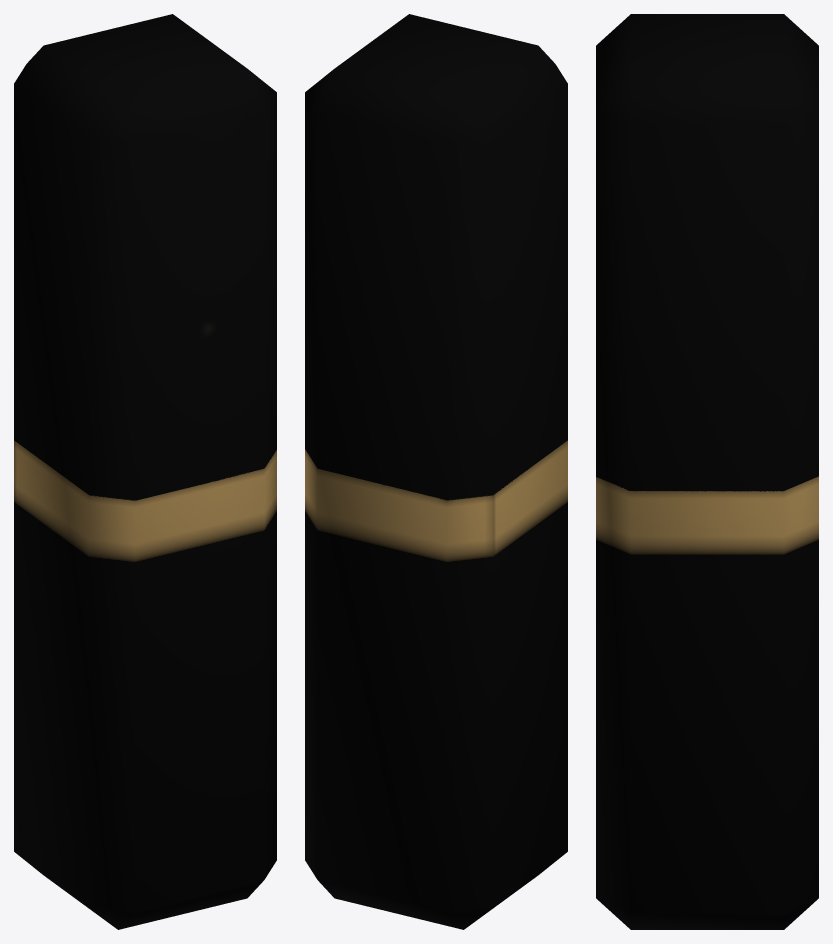
File: lipstick_01.fbx
The picture shows the model from 3 angles, left to right: view 1: azimuth 30°, elevation 25°; view 2: azimuth 150°, elevation 25°; view 3: azimuth 270°, elevation 25°; orthographic projection. The views are drawn at different scales.
Visible parts, largest first — view 1: lipstick_01.lid, lipstick_01; view 2: lipstick_01.lid, lipstick_01; view 3: lipstick_01.lid, lipstick_01.
Boxes of the visible parts, x1=… form: lipstick_01.lid: x1=14, y1=14, x2=276, y2=500; lipstick_01: x1=14, y1=440, x2=276, y2=929; lipstick_01.lid: x1=305, y1=14, x2=567, y2=500; lipstick_01: x1=305, y1=440, x2=567, y2=929; lipstick_01.lid: x1=596, y1=14, x2=818, y2=491; lipstick_01: x1=596, y1=476, x2=818, y2=929.
Size of the model in its own units: 5.77 by 24.33 by 5.77.
